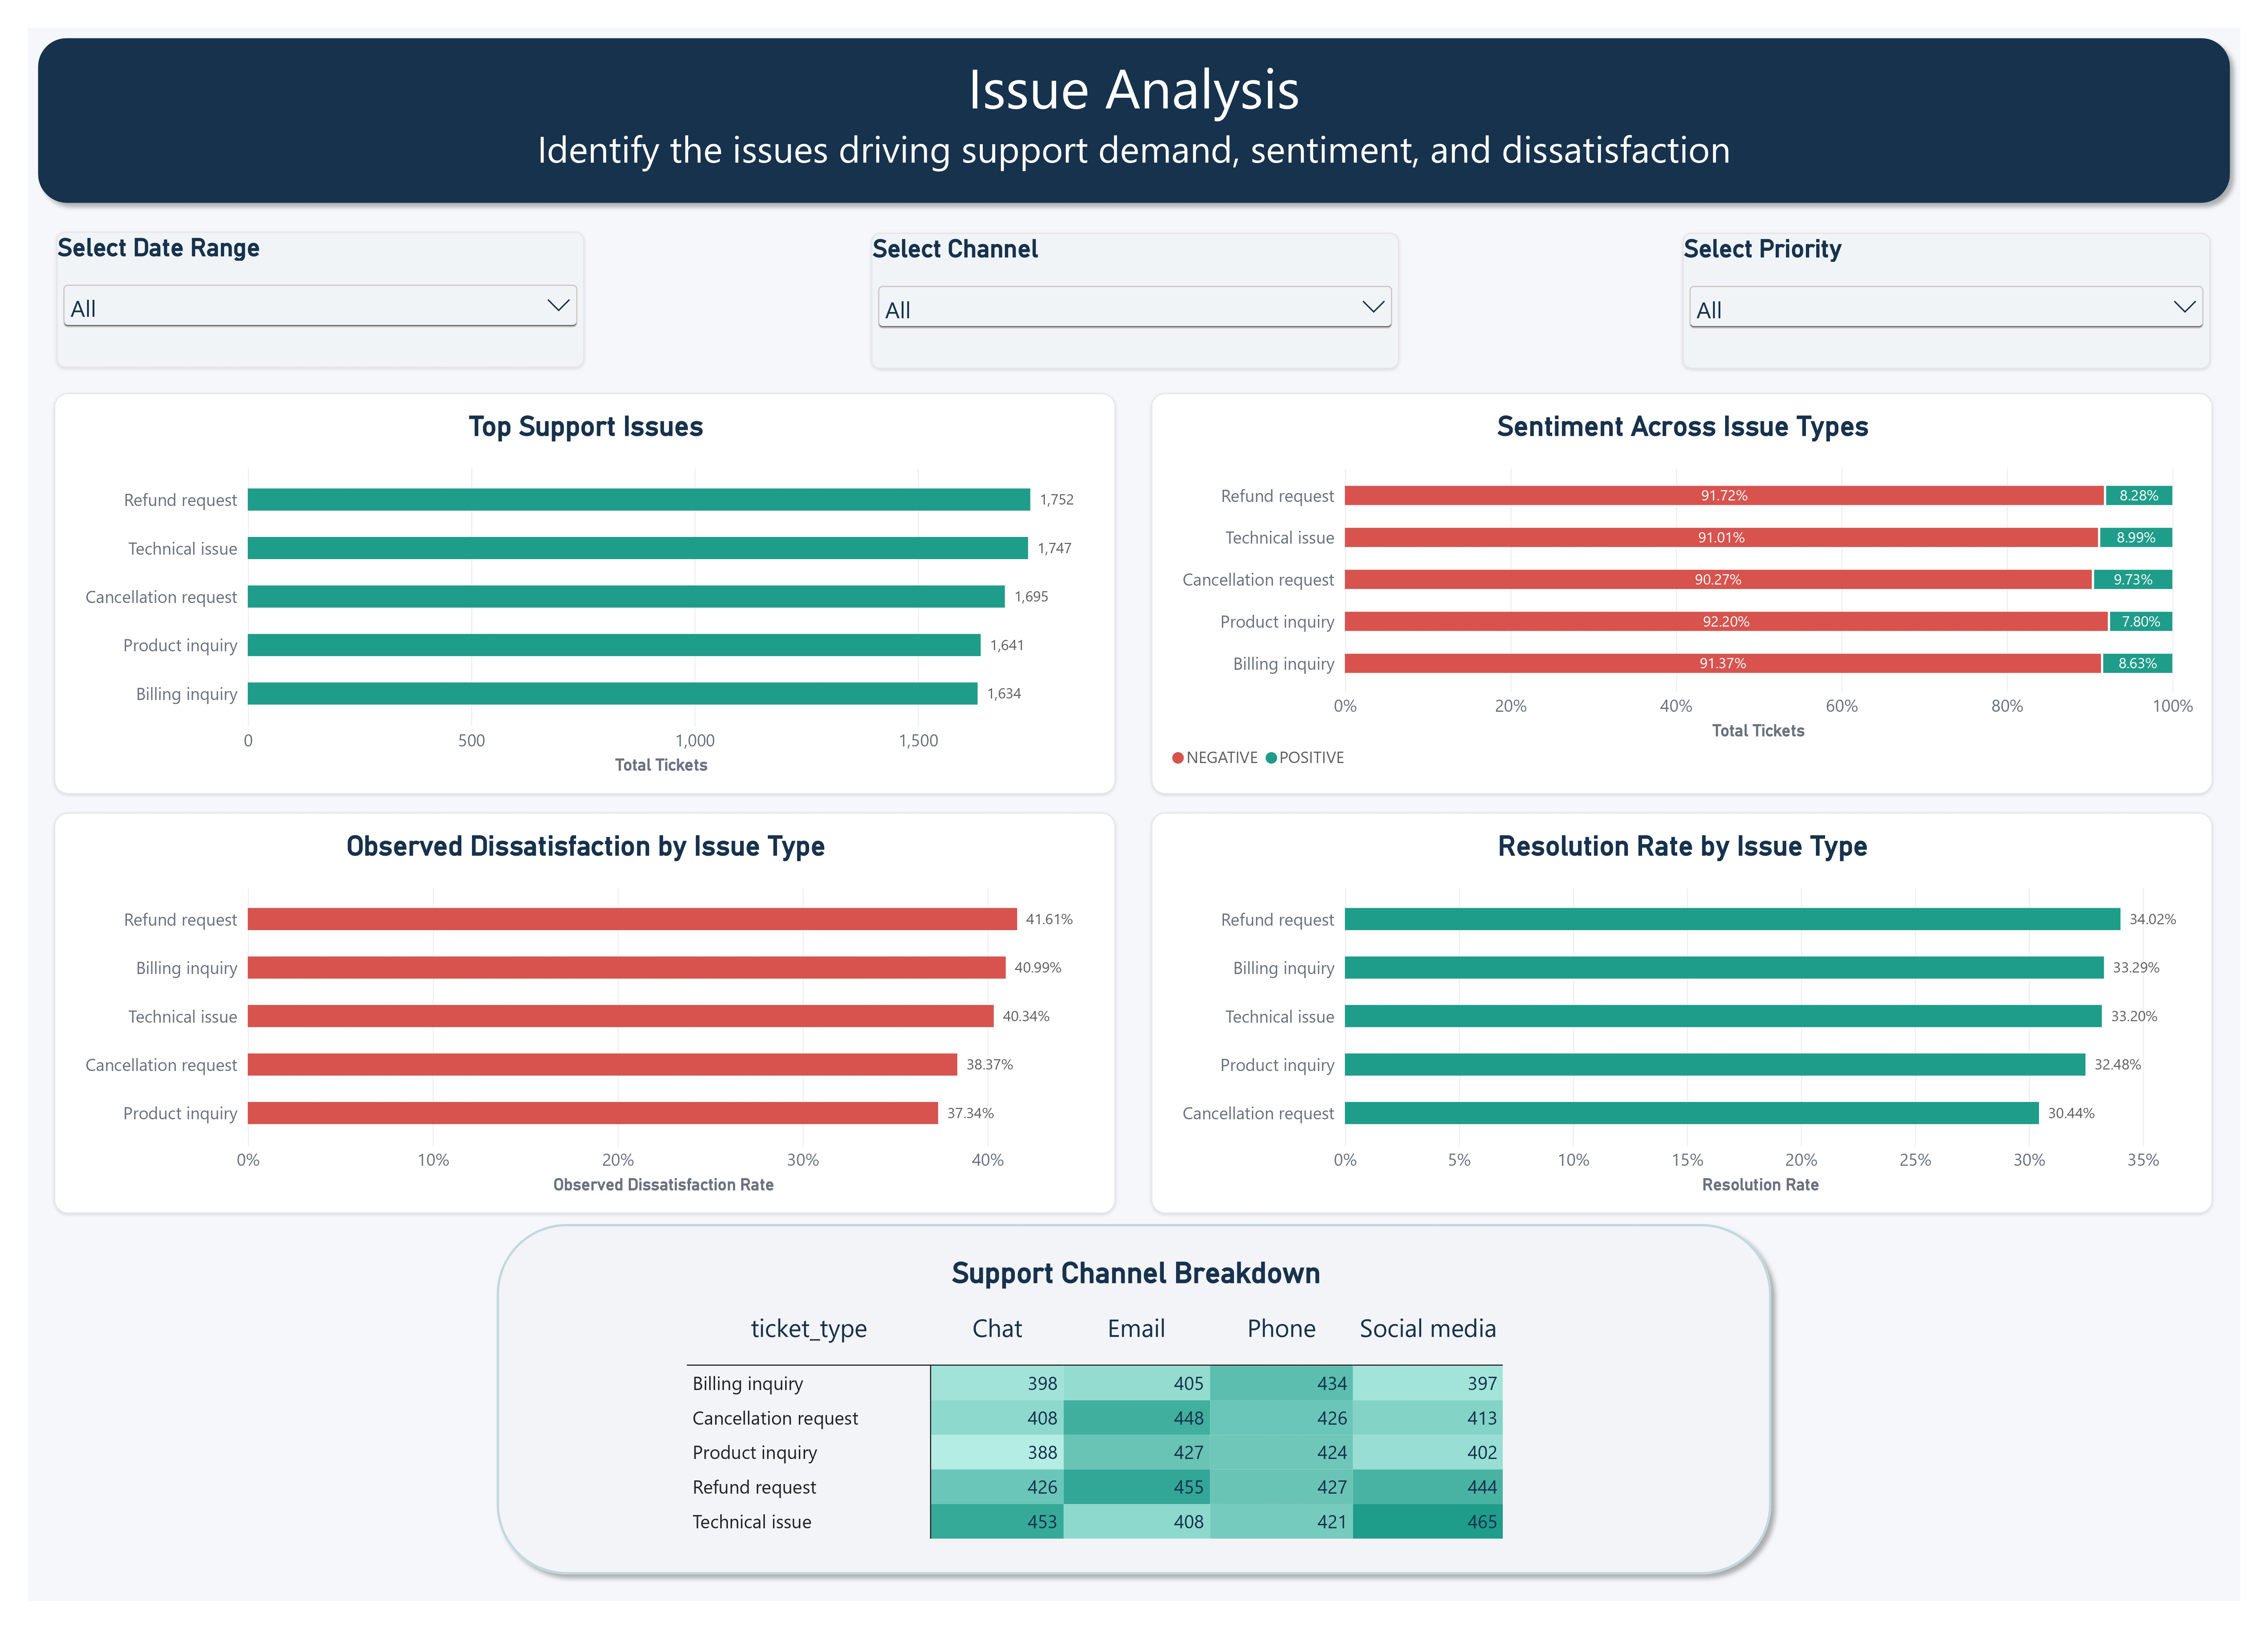

The page's visual inventory and layout, read from the dashboard file:
{"tool":"powerbi","page":{"name":"Issue Analysis","canvas":[1920,1365],"ordinal":1},"visuals":[{"type":"shape","box":[0,0,1920.4,160.5],"z":0},{"type":"textbox","box":[398,18,1124,124],"z":1000},{"type":"slicer","title":"Select Date Range","fields":{"Values":["dim_date.full_date"]},"box":[25,177.1,458,118],"z":2000},{"type":"slicer","title":"Select Channel","fields":{"Values":["dim_channel.ticket_channel"]},"box":[732,178,458,118],"z":3000},{"type":"slicer","title":"Select Priority","fields":{"Values":["dim_priority.ticket_priority"]},"box":[1436,178,458,118],"z":4000},{"type":"clusteredBarChart","title":"Top Support Issues","fields":{"Y":["fact_ticket.Total Tickets"],"Category":["dim_category.ticket_type"]},"box":[22.9,316.7,920.8,347.9],"z":5000},{"type":"hundredPercentStackedBarChart","title":"Sentiment Across Issue Types","fields":{"Category":["dim_category.ticket_type"],"Y":["fact_ticket.Total Tickets"],"Series":["fact_ticket.sentiment_label"]},"box":[975,316.7,920.8,347.9],"z":6000},{"type":"clusteredBarChart","title":"Observed Dissatisfaction by Issue Type","fields":{"Y":["fact_ticket.Observed Dissatisfaction Rate"],"Category":["dim_category.ticket_type"]},"box":[22.9,681.2,920.8,347.9],"z":7000},{"type":"clusteredBarChart","title":"Resolution Rate by Issue Type","fields":{"Y":["fact_ticket.Resolution Rate"],"Category":["dim_category.ticket_type"]},"box":[975,681.2,920.8,347.9],"z":8000},{"type":"shape","box":[397.6,1029.3,1124.4,322],"z":10000},{"type":"pivotTable","title":"Support Channel Breakdown","fields":{"Rows":["dim_category.ticket_type"],"Columns":["dim_channel.ticket_channel"],"Values":["fact_ticket.Total Tickets"]},"box":[556.1,1051.2,812.2,278],"z":10500}]}

Visuals, with their boxes on the page's 1920x1365 design canvas (x1, y1, x2, y2). These are canvas units, not pixel positions in the 2268x1629 screenshot, which may show the page scaled, cropped or inside an application window:
shape: [x1=0, y1=0, x2=1920, y2=160]
textbox: [x1=398, y1=18, x2=1522, y2=142]
"Select Date Range" slicer: [x1=25, y1=177, x2=483, y2=295]
"Select Channel" slicer: [x1=732, y1=178, x2=1190, y2=296]
"Select Priority" slicer: [x1=1436, y1=178, x2=1894, y2=296]
"Top Support Issues" clusteredBarChart: [x1=23, y1=317, x2=944, y2=665]
"Sentiment Across Issue Types" hundredPercentStackedBarChart: [x1=975, y1=317, x2=1896, y2=665]
"Observed Dissatisfaction by Issue Type" clusteredBarChart: [x1=23, y1=681, x2=944, y2=1029]
"Resolution Rate by Issue Type" clusteredBarChart: [x1=975, y1=681, x2=1896, y2=1029]
shape: [x1=398, y1=1029, x2=1522, y2=1351]
"Support Channel Breakdown" pivotTable: [x1=556, y1=1051, x2=1368, y2=1329]
